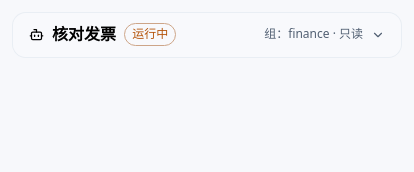
Test case: SubagentCard › uses the remote child status when the parent event is missing
What coordinates should you click on to do the following:
click the button with test id "subagent-toggle"
I would click on:
 (84, 34)
Its box is [13,13,401,57].
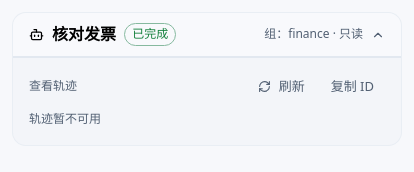
expect the text "已完成" is shown: met, box [124,23,176,46]
